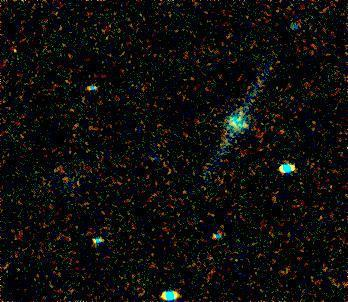star: (225, 100, 255, 130)
